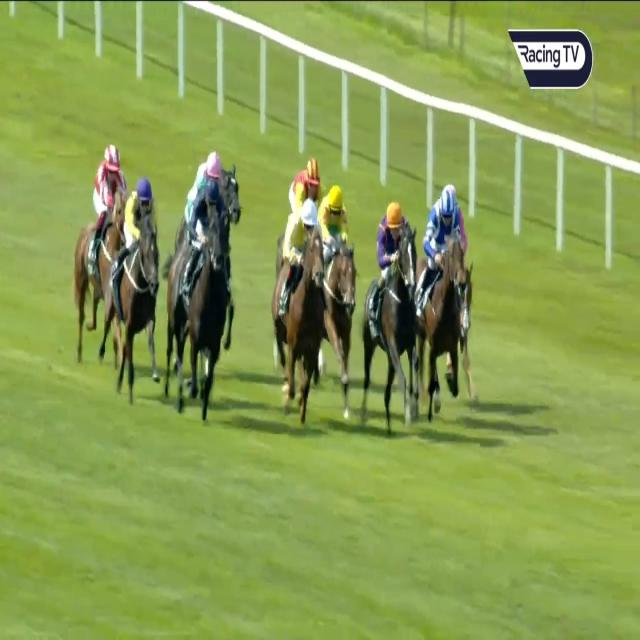horses-racing: (168, 188, 234, 393), (364, 207, 418, 430), (106, 179, 160, 373), (277, 201, 322, 412), (79, 142, 125, 334), (428, 185, 459, 429), (324, 186, 351, 414), (187, 144, 244, 195), (292, 151, 324, 217), (450, 179, 469, 262), (179, 177, 212, 220)
